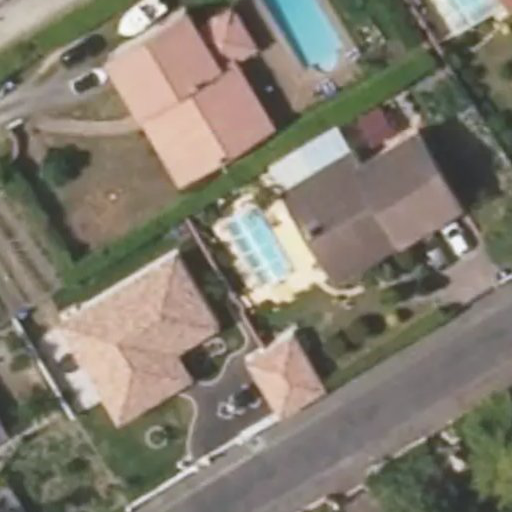pool: (218, 217, 296, 270)
